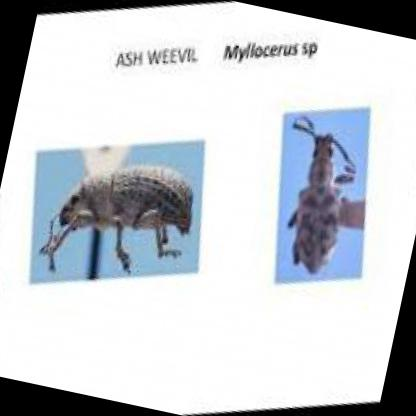ash weevil: (43, 164, 196, 254), (292, 124, 353, 273)
